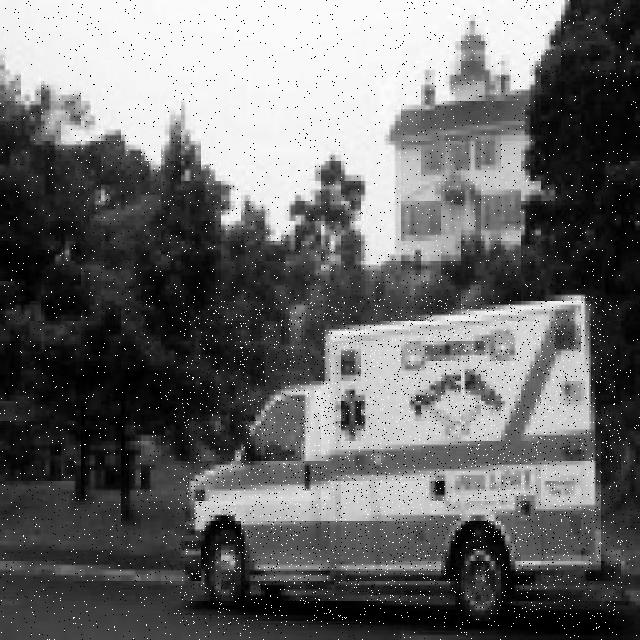Ambulance: (180, 296, 621, 627)
